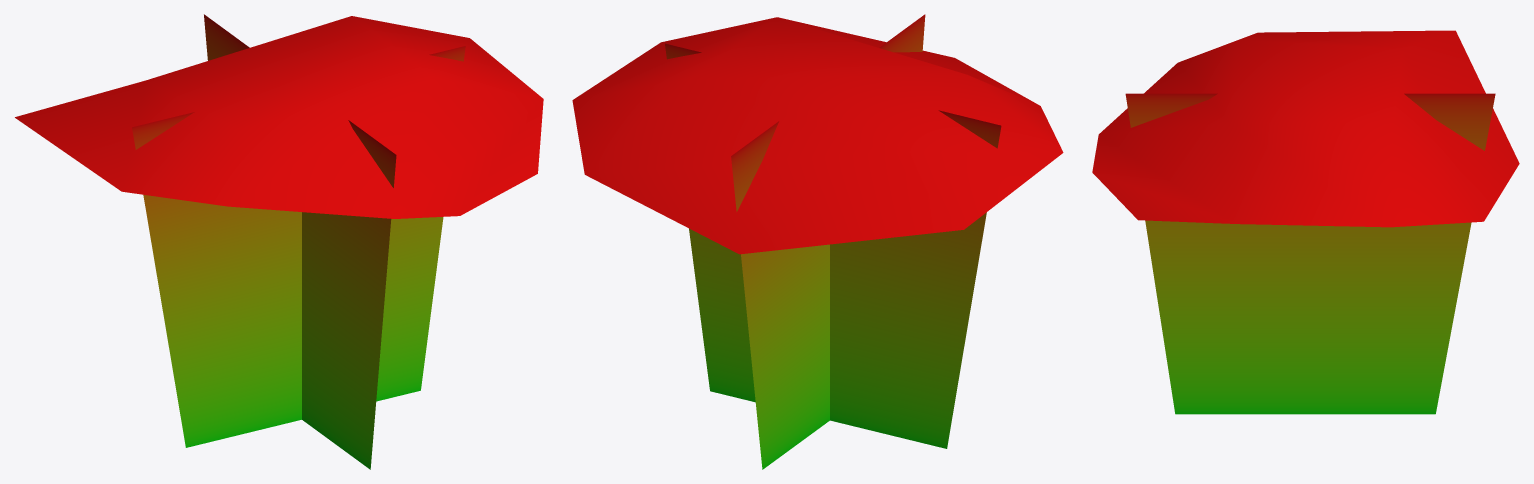
The model's file is Purple_Shamrock_rjrrH_Mid_rjrrH_Oxalis_LOD3.fbx.
3 views of the same model, side by side, from view 1: azimuth 30°, elevation 25°; view 2: azimuth 150°, elevation 25°; view 3: azimuth 270°, elevation 25° (orthographic). The views are drawn at different scales.
Visible parts, largest first — view 1: Oxalis_Var3_LOD4; view 2: Oxalis_Var3_LOD4; view 3: Oxalis_Var3_LOD4.
Boxes of the visible parts, x1,y1,x2,y2 form: Oxalis_Var3_LOD4: [15, 14, 543, 469]; Oxalis_Var3_LOD4: [572, 14, 1063, 469]; Oxalis_Var3_LOD4: [1092, 30, 1519, 414].
Size of the model in its own units: 26.5 by 20.89 by 24.21.
